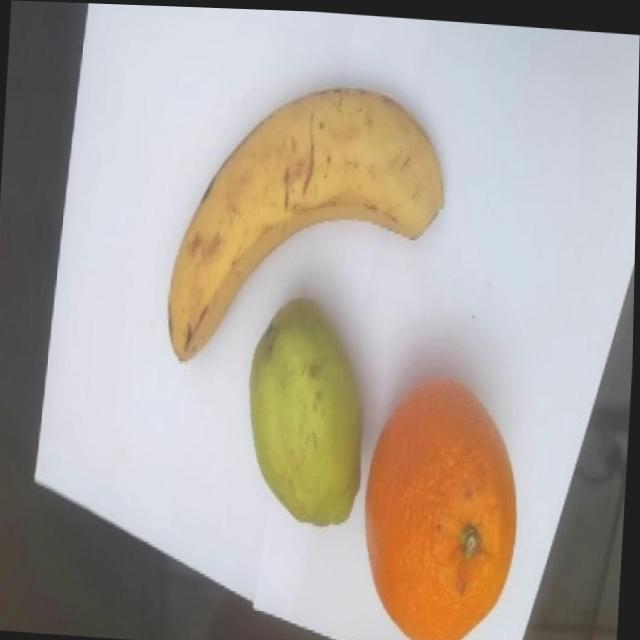Banana: (161, 73, 453, 381)
Orange: (358, 369, 528, 640)
